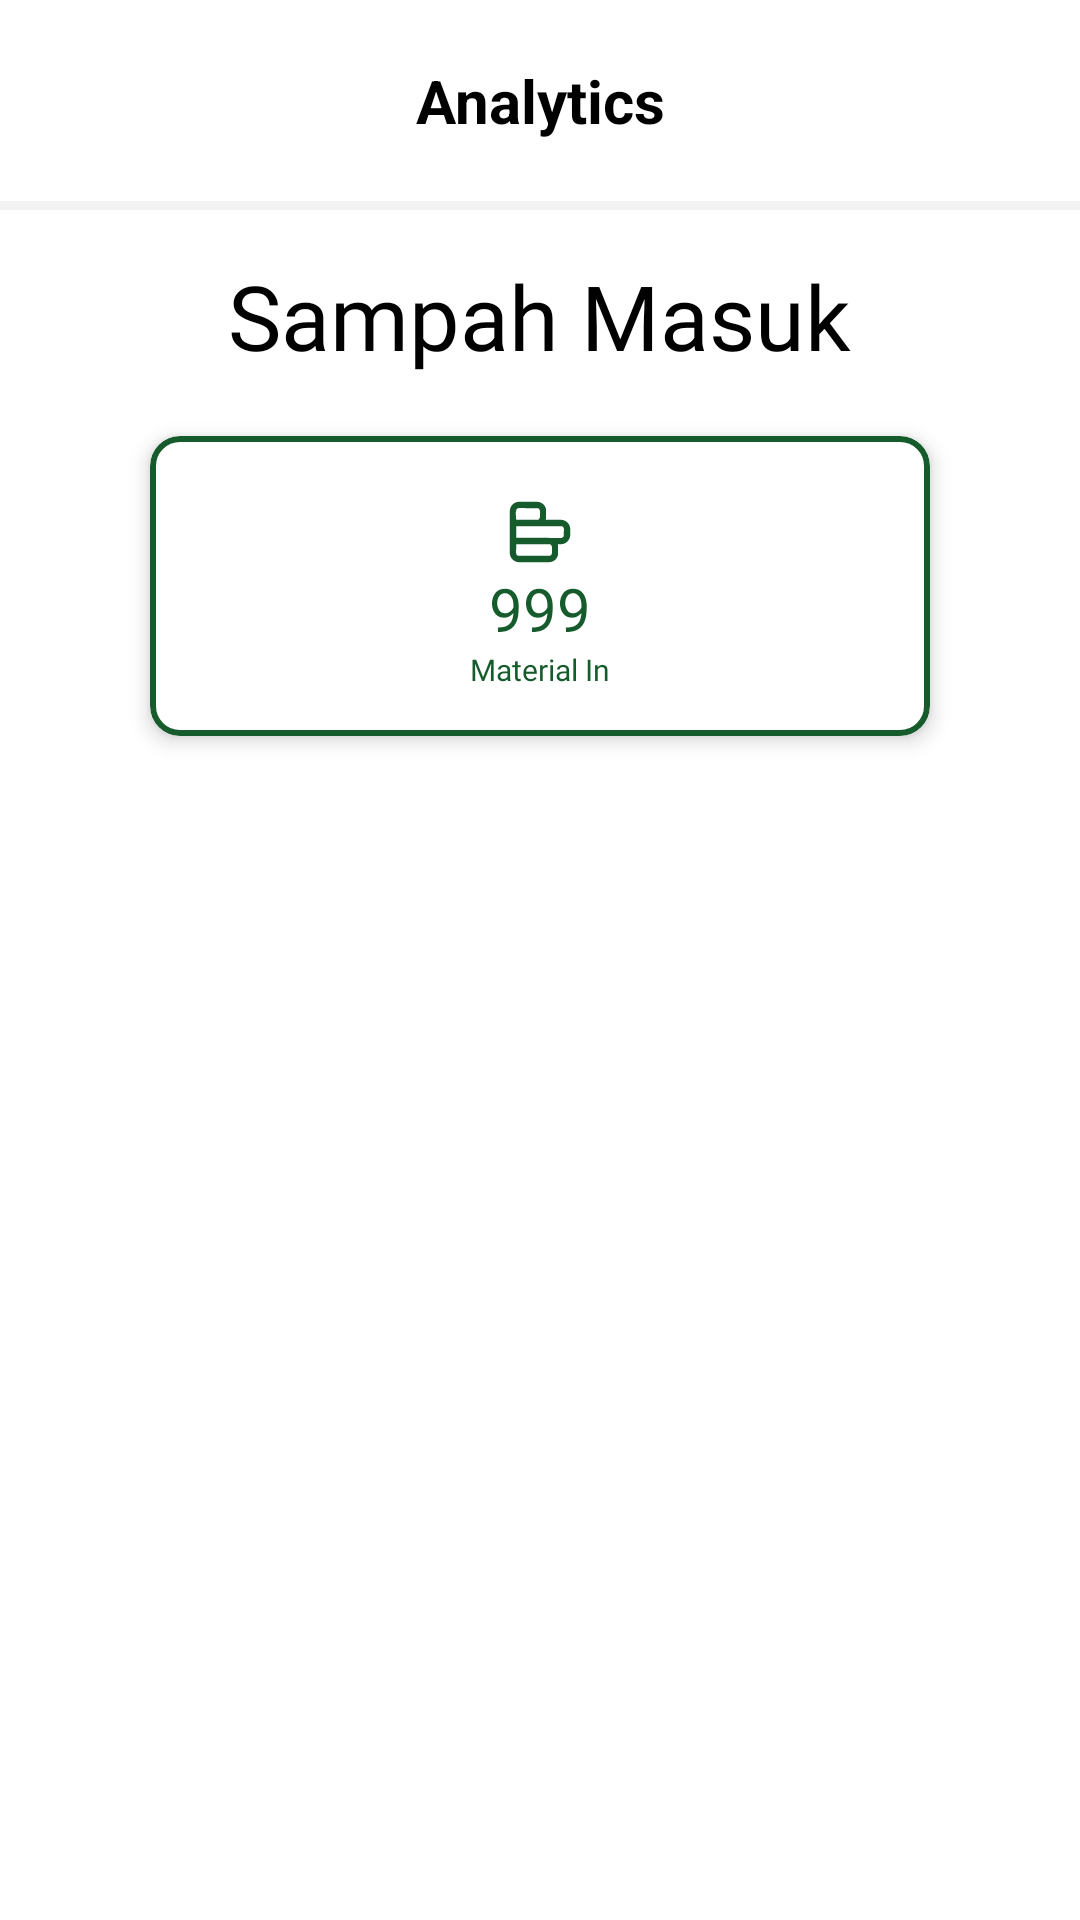

Icon bounding boxes for this 1080px×1920px phone screenshot, format (x1, y1, x2, y2):
bar chart: (509, 501, 571, 563)
